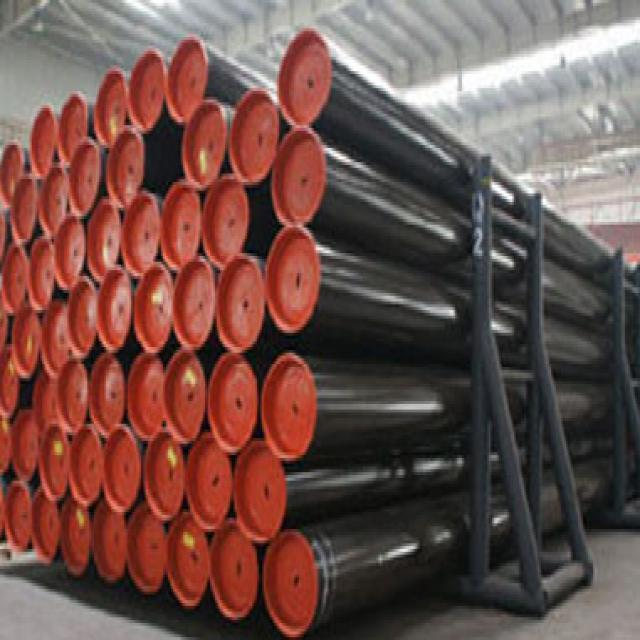pipe: (267, 225, 319, 329), (264, 356, 315, 458), (265, 534, 318, 632), (281, 28, 332, 122), (238, 442, 284, 539), (277, 129, 323, 217), (211, 354, 255, 445), (232, 95, 277, 182), (190, 434, 231, 529), (219, 258, 263, 345), (163, 348, 205, 439), (215, 521, 257, 610), (168, 513, 208, 600), (205, 174, 246, 258), (128, 349, 166, 436), (187, 101, 224, 180), (130, 506, 165, 588), (177, 262, 213, 341), (148, 435, 183, 516), (97, 267, 131, 350), (139, 261, 171, 348), (106, 427, 138, 507), (132, 50, 164, 129), (94, 499, 125, 578), (93, 351, 124, 430), (109, 126, 143, 198), (167, 185, 198, 263), (127, 200, 160, 269), (72, 424, 102, 498), (93, 199, 121, 276), (174, 40, 204, 111), (97, 70, 125, 142), (45, 302, 73, 373), (59, 364, 88, 432), (43, 421, 69, 492), (63, 90, 87, 160), (15, 302, 39, 372), (72, 278, 95, 349), (72, 142, 96, 210), (30, 238, 53, 307), (59, 221, 85, 280), (34, 104, 55, 176), (5, 247, 27, 308), (2, 145, 22, 202), (46, 171, 65, 227), (15, 183, 34, 239)
